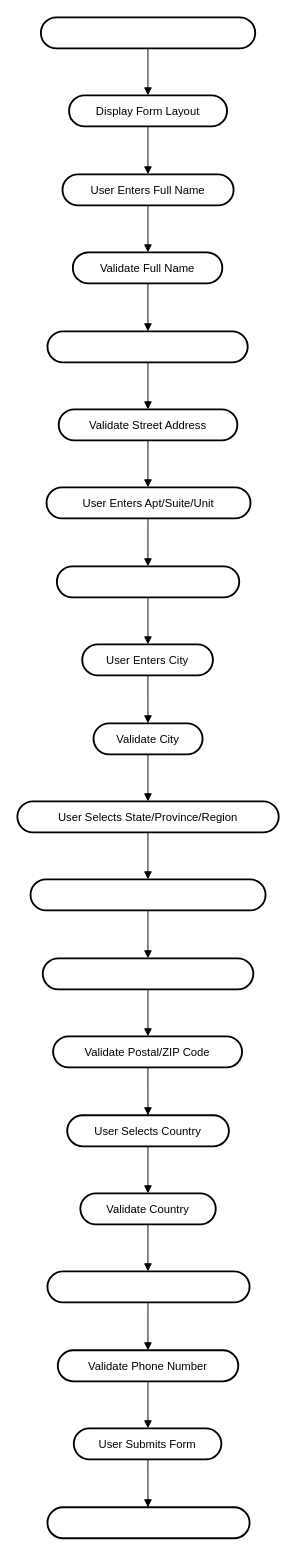
This 295x1555 diagram has some shape labels left out. The box of each missing label's shape, as (x1, y1, x2, y2) in pixels:
Store Shipping Information: (46, 1506, 250, 1539)
User Accesses Shipping Form: (39, 16, 256, 49)
User Enters Phone Number: (46, 1270, 250, 1303)
User Enters Postal/ZIP Code: (41, 957, 254, 990)
User Enters Street Address: (46, 330, 248, 363)
Validate Apt/Suite/Unit: (55, 565, 240, 598)
Validate State/Province/Region: (29, 878, 266, 911)
